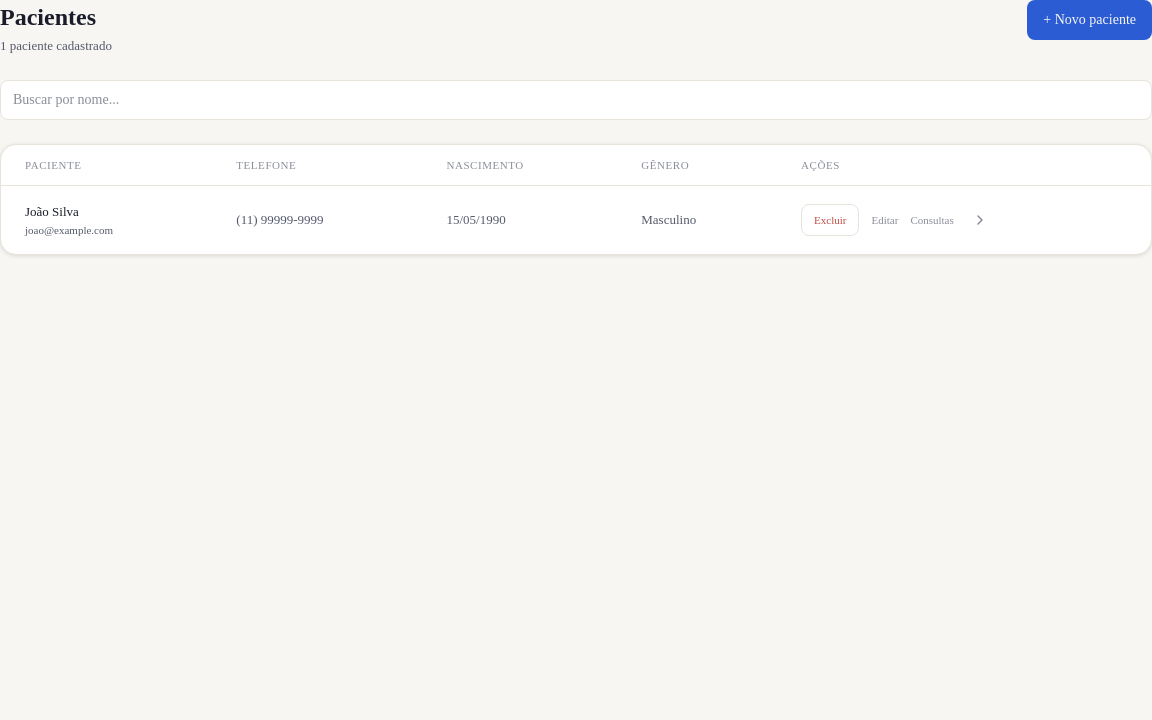
Test case: PatientList (integration) › opens delete dialog when delete button is clicked
Expected: the table with test id "patient-list-table" is shown, [1,145,1151,254]
Click the button with test id "patient-delete-button-uuid-1" at (830, 220), box [801,204,860,236]
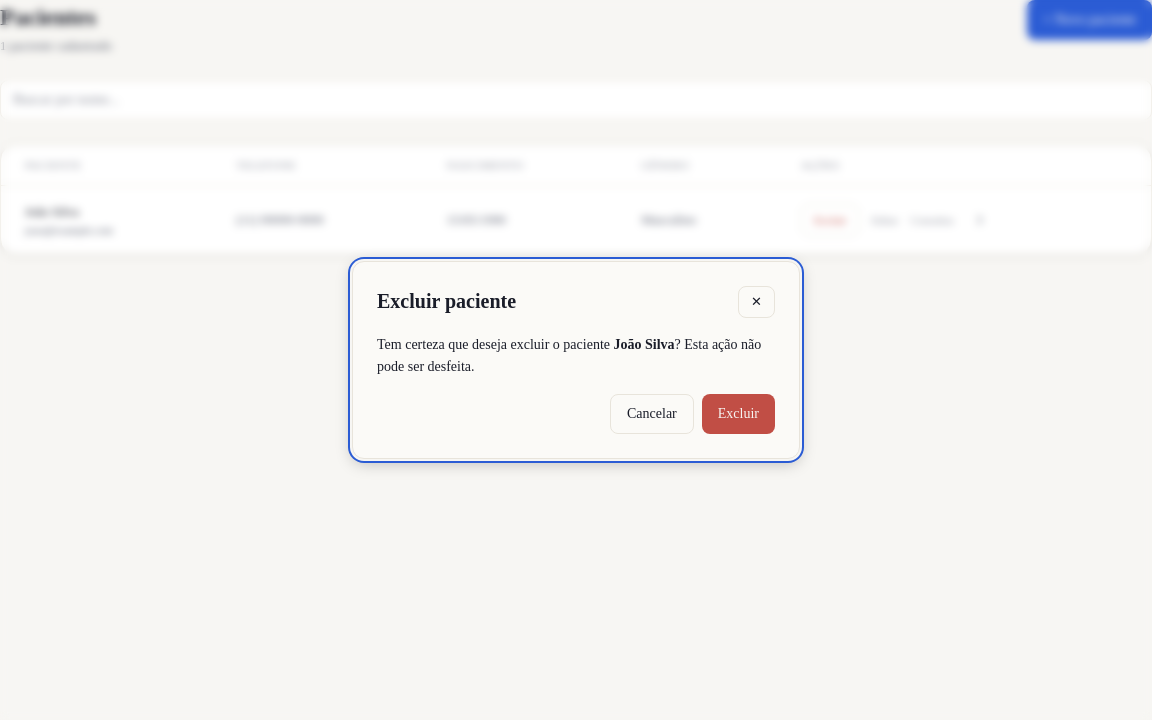
Result: the button with test id "delete-patient-dialog-confirm" is shown at [702,394,775,434]
